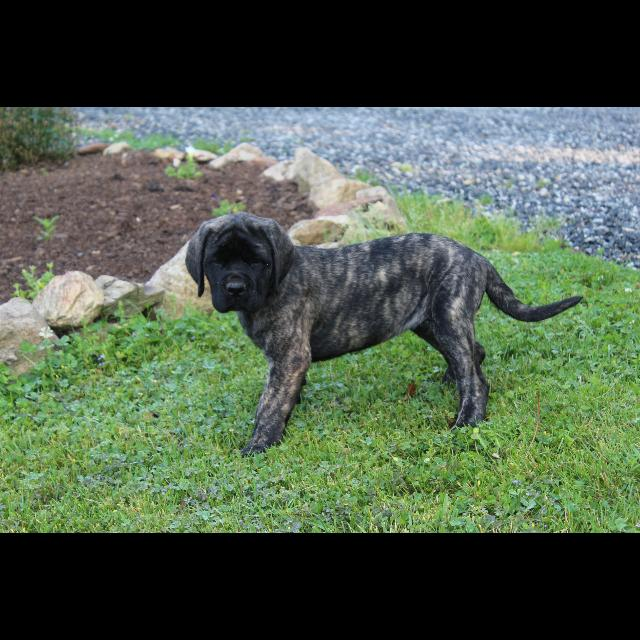other_dog_breed: (186, 213, 584, 460)
